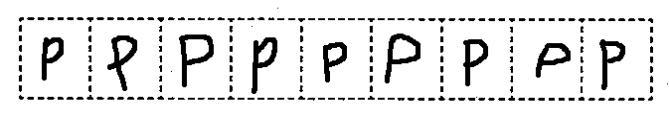P: (174, 30, 217, 93), (381, 28, 426, 88), (104, 32, 143, 93), (592, 36, 630, 95), (456, 34, 495, 91), (248, 33, 281, 96), (533, 37, 576, 82), (315, 38, 355, 86), (37, 32, 69, 86)
